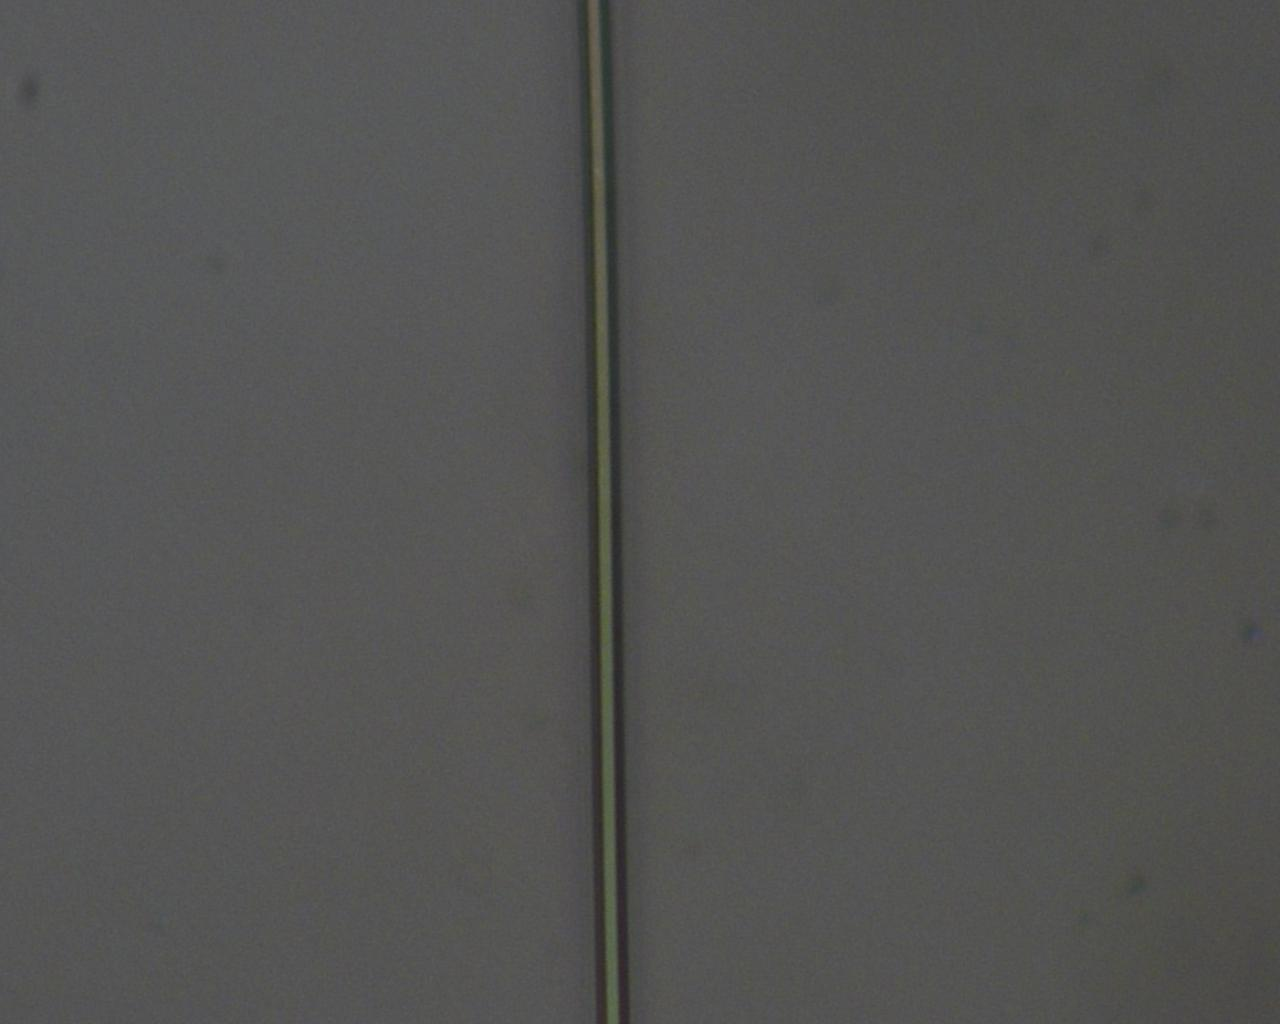fiber: (311, 563, 417, 1024), (463, 0, 512, 563), (942, 563, 958, 1024)
